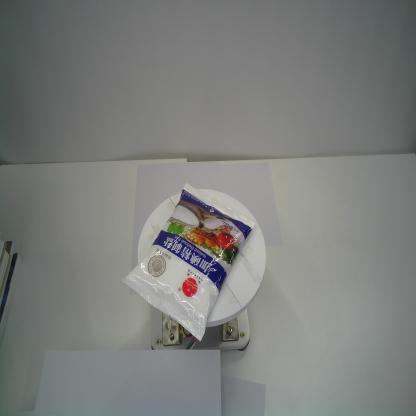Seasoner: (119, 180, 256, 346)
